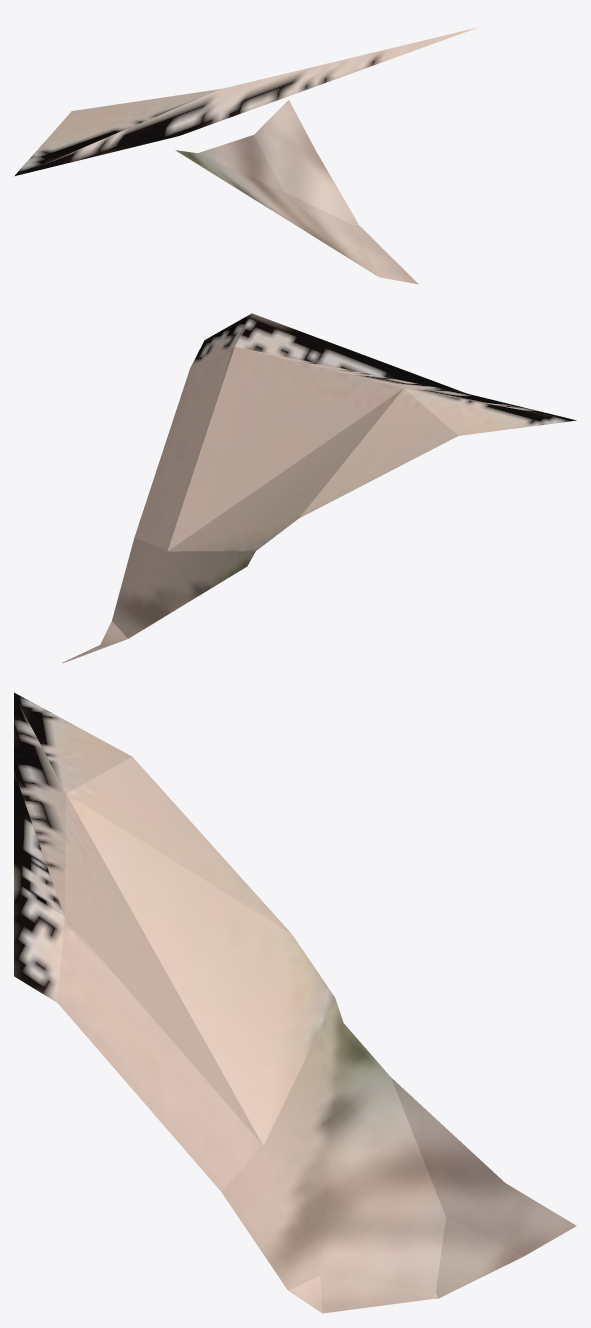
The picture shows the model from 3 angles, top to bottom: view 1: azimuth 30°, elevation 25°; view 2: azimuth 150°, elevation 25°; view 3: azimuth 270°, elevation 25°; orthographic projection. The views are drawn at different scales.
Bounding box in the file's own units: 0.8305 × 0.5684 × 0.7364.
1 material, 1 textured.
